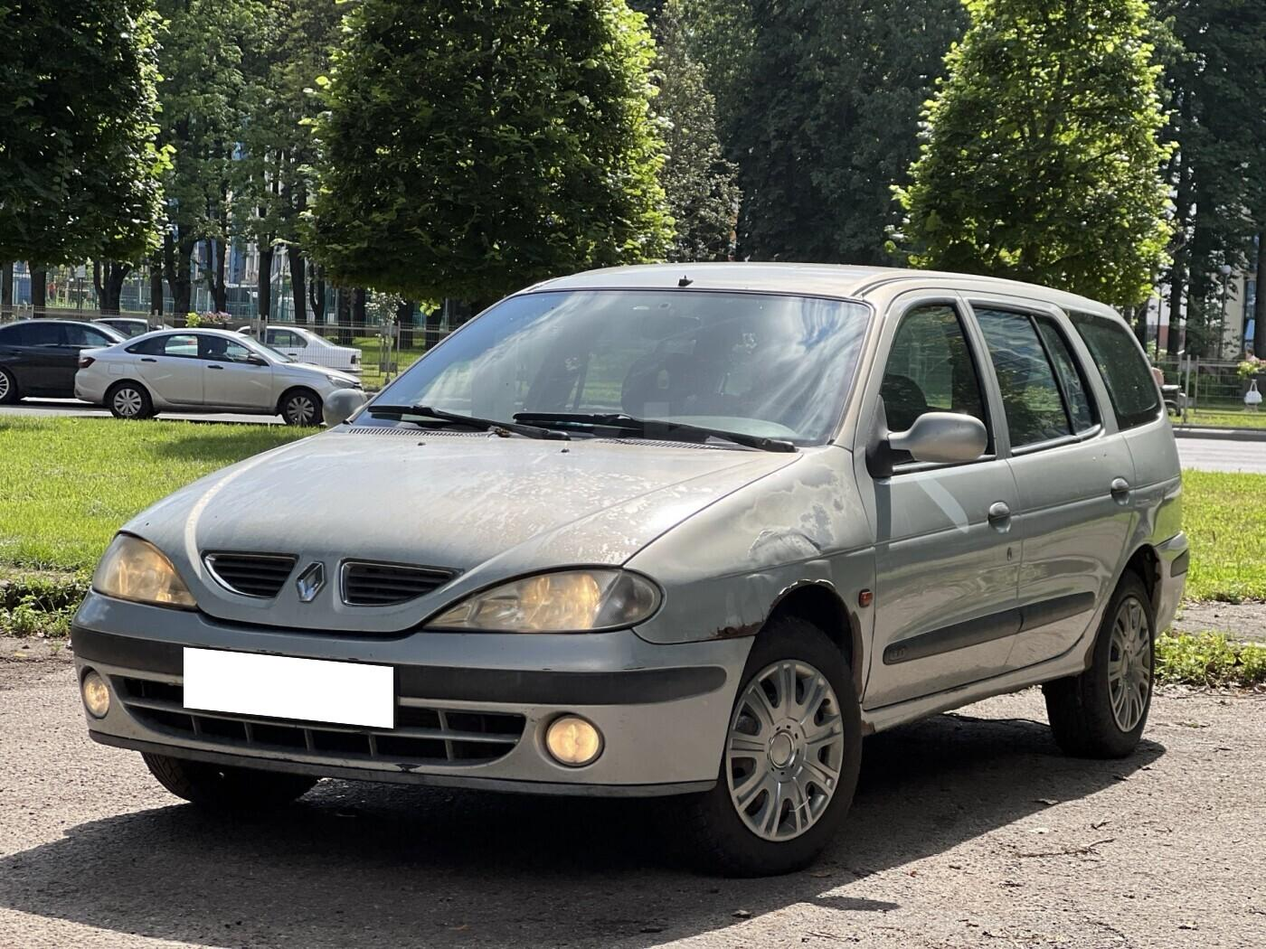Megane_1999-2003: (62, 243, 1195, 875)
